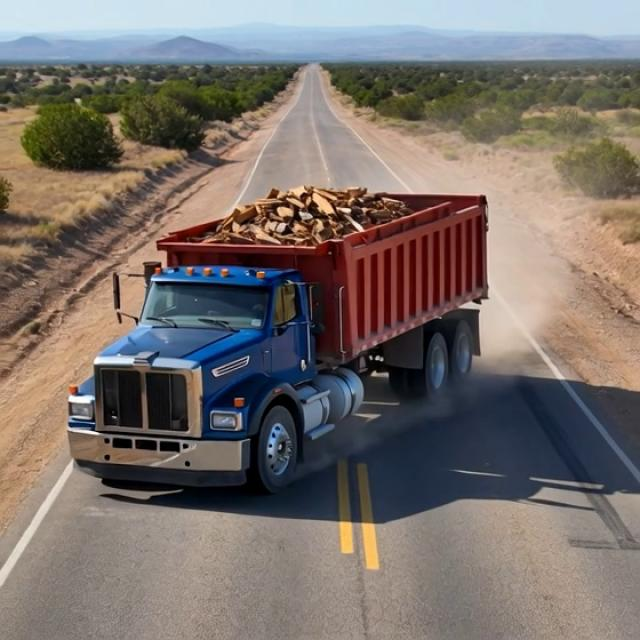Box: (154, 178, 494, 257)
Truck: (60, 169, 519, 501)
